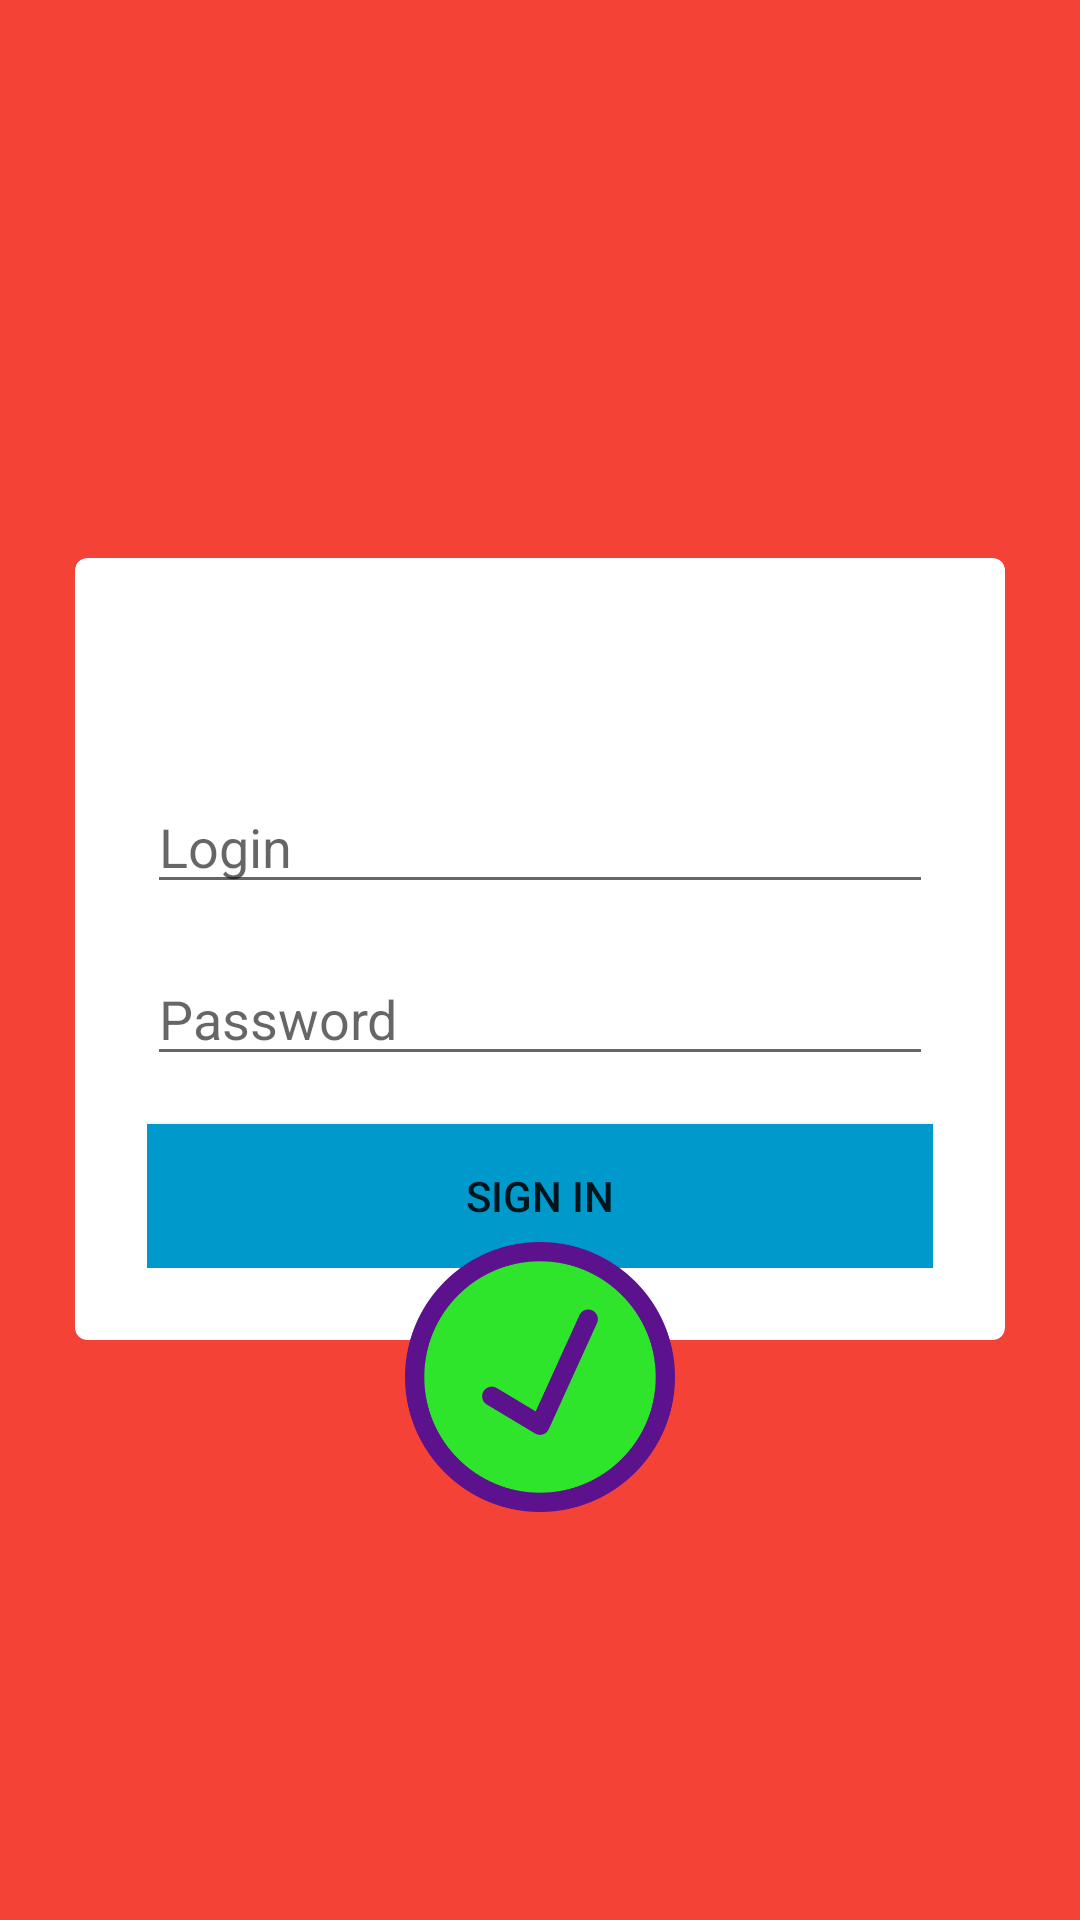

Icon click points for this 1080 × 1920 phone screenshot, format [x,y]:
checkmark: [540,1377]
